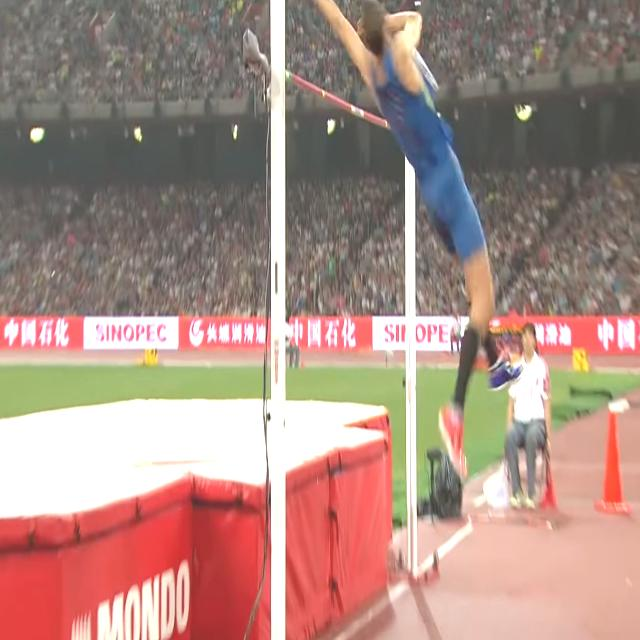jump: (307, 0, 523, 482)
